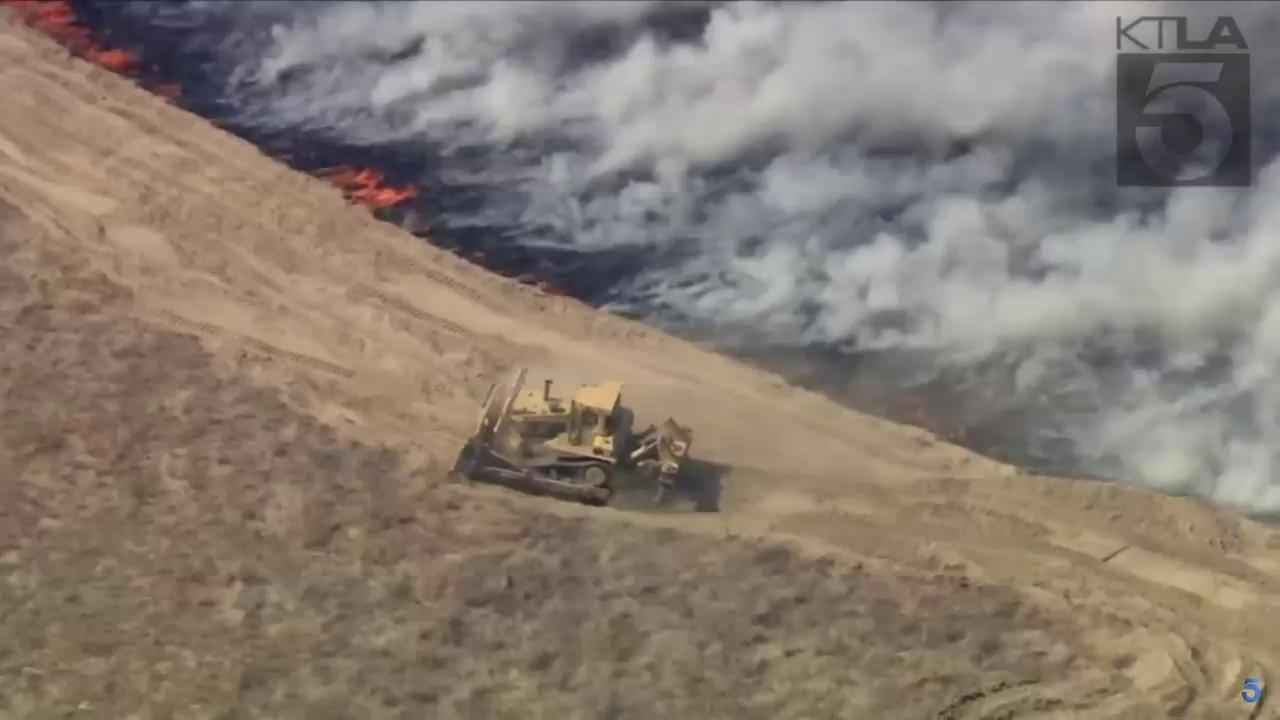fire: (1, 0, 140, 78), (316, 161, 420, 214)
smoke: (74, 0, 1280, 525)
